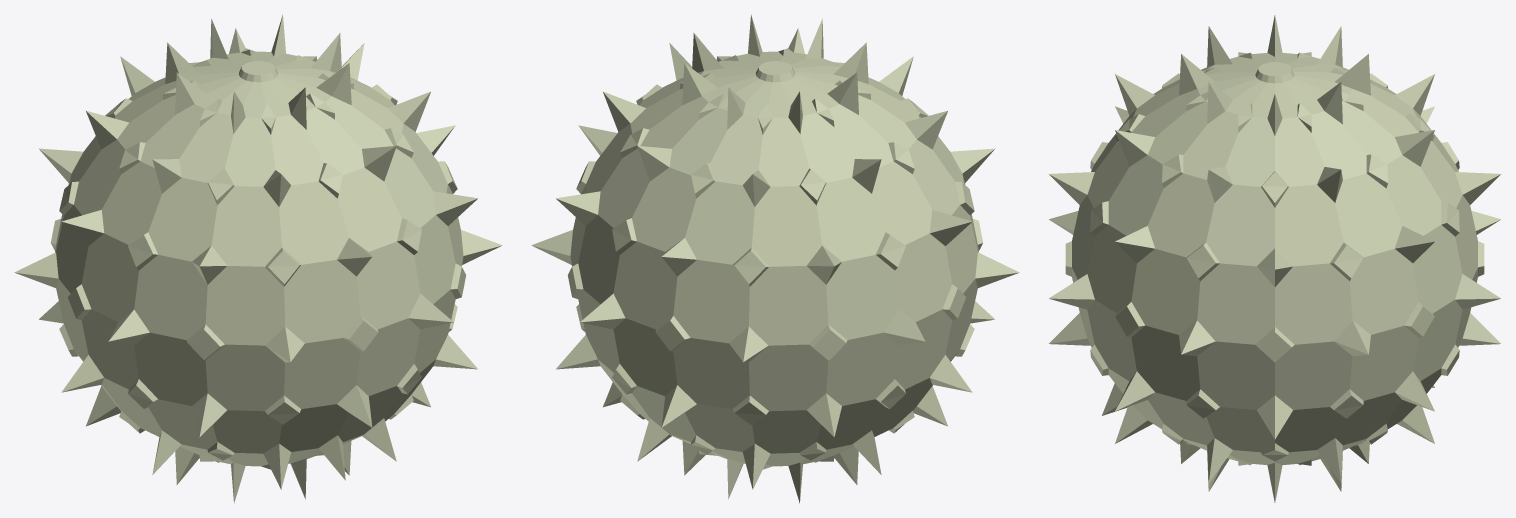
Rendered from Virus Ball.fbx.
3 renders of one model, left to right at view 1: azimuth 30°, elevation 25°; view 2: azimuth 150°, elevation 25°; view 3: azimuth 270°, elevation 25°, orthographic.
Parts seen in each view (by area): view 1: sphere4; view 2: sphere4; view 3: sphere4.
Boxes of the visible parts, bbox=[...] form: sphere4: bbox=[14, 14, 502, 503]; sphere4: bbox=[531, 14, 1019, 503]; sphere4: bbox=[1049, 15, 1500, 502].
Size of the model in its own units: 17.69 by 17.69 by 17.69.
